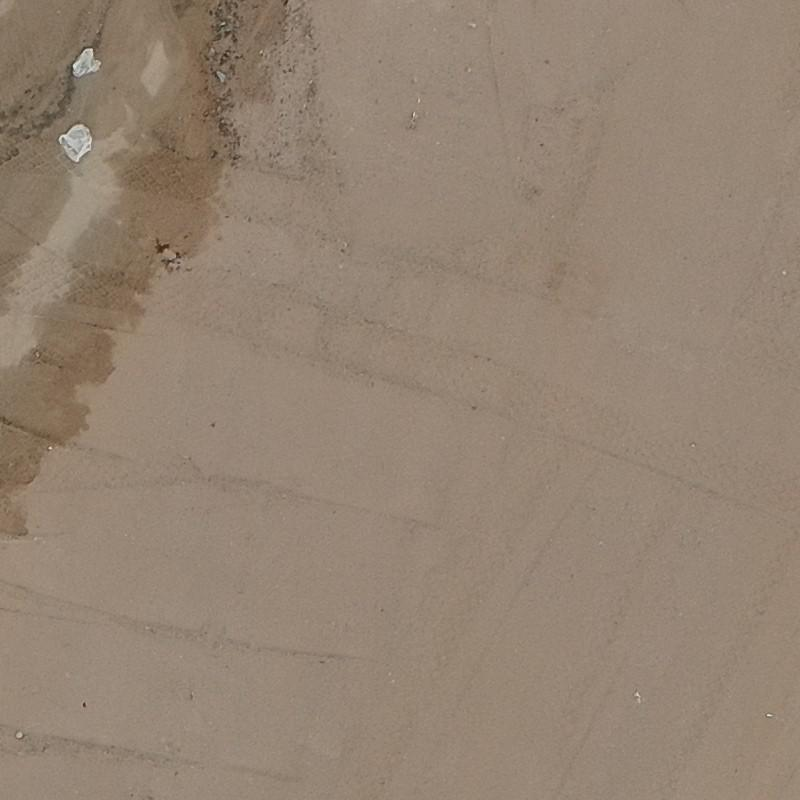coastal_litter: (60, 122, 93, 161), (70, 48, 101, 76)
